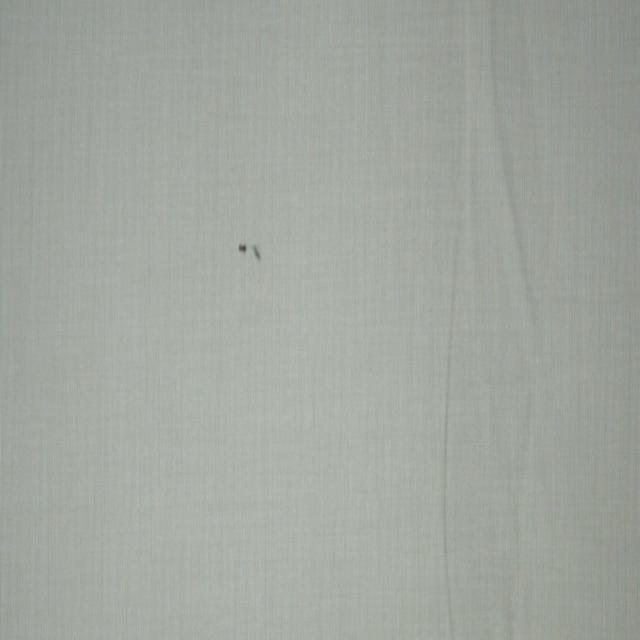dirty: (251, 244, 263, 263), (236, 241, 248, 255)
